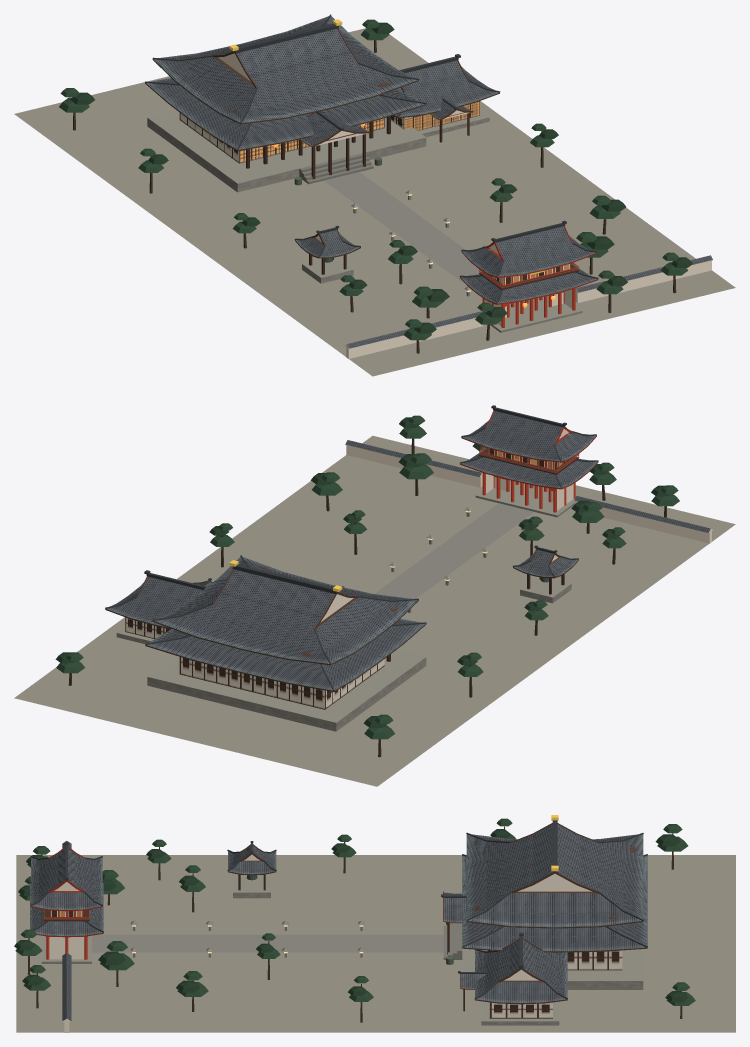
File: zojoji.glb
3 views of the same model, one above another, from view 1: azimuth 30°, elevation 25°; view 2: azimuth 150°, elevation 25°; view 3: azimuth 270°, elevation 25° (orthographic).
Parts seen in each view (by area): view 1: zojoji; view 2: zojoji; view 3: zojoji.
Boxes of the visible parts, x1,y1,x2,y2 form: zojoji: [14, 14, 735, 376]; zojoji: [14, 405, 735, 786]; zojoji: [14, 815, 735, 1032].
Size of the model in its own units: 100 by 26.85 by 172.
Materials: 2 (2 with a texture image).
